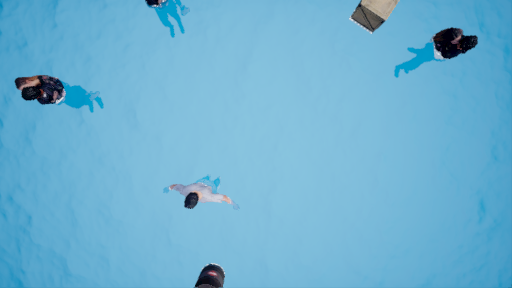person: (385, 24, 479, 81), (14, 73, 110, 120), (159, 173, 244, 215)
